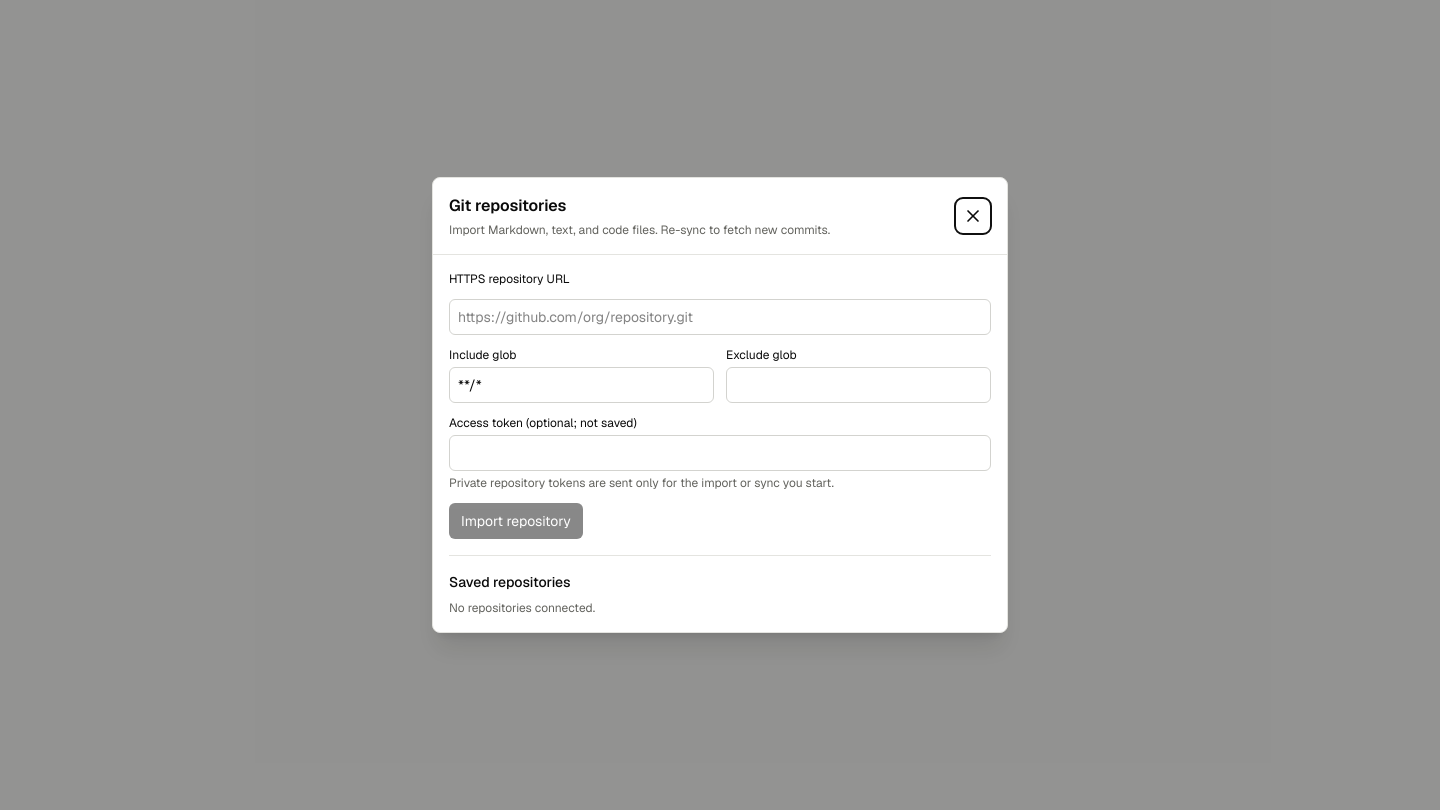
Test: GitRepositoryDialog › imports a repository and clears the one-time token
Check: the text "No repositories connected." is shown, box x1=449 y1=600 x2=595 y2=616
Type "https://github.com/org/repo.git" into the field labelled "HTTPS repository URL" at (720, 317), box x1=449 y1=299 x2=991 y2=335
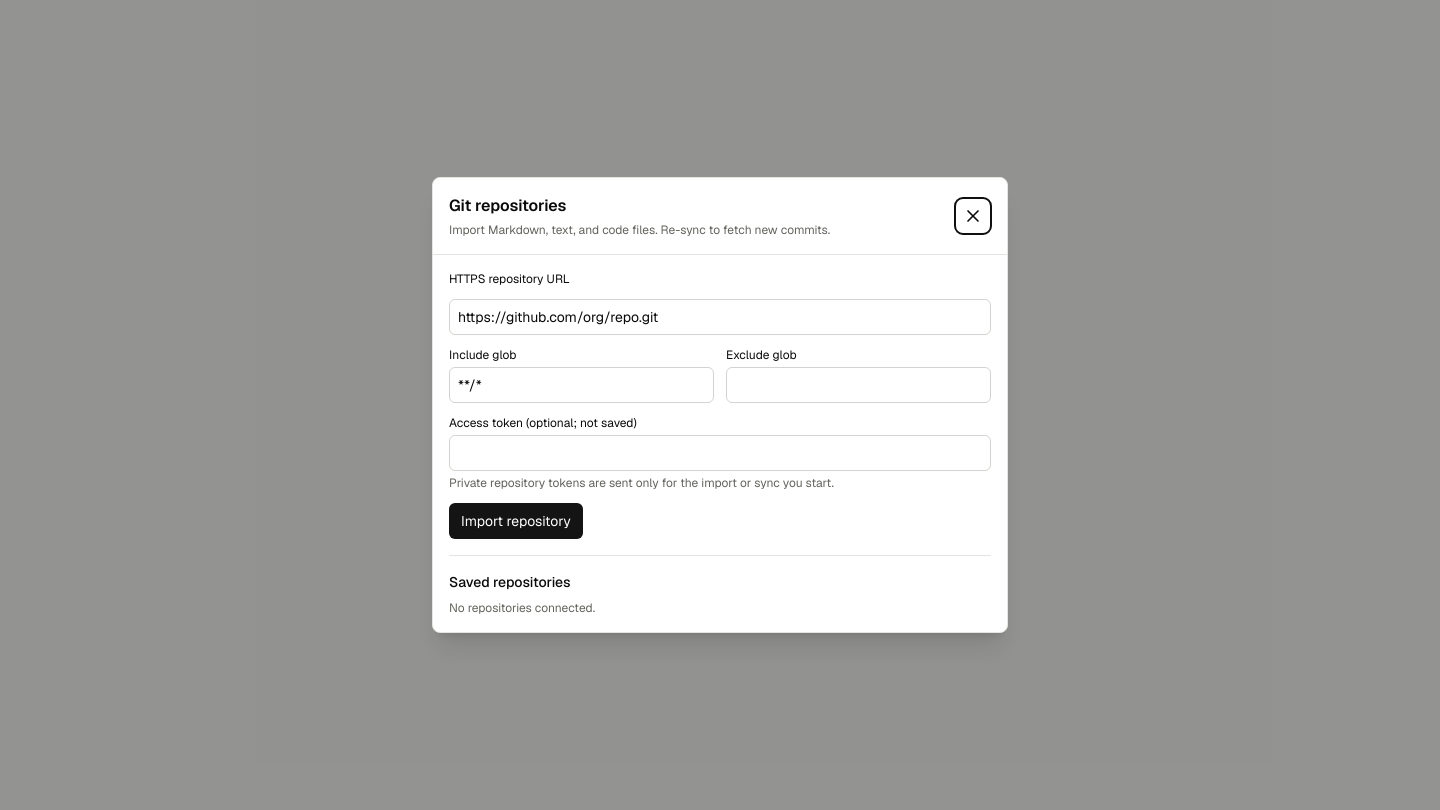
Type "one-time-token" into the password field labelled "Access token (optional; not saved)" at (720, 453), box x1=449 y1=435 x2=991 y2=471
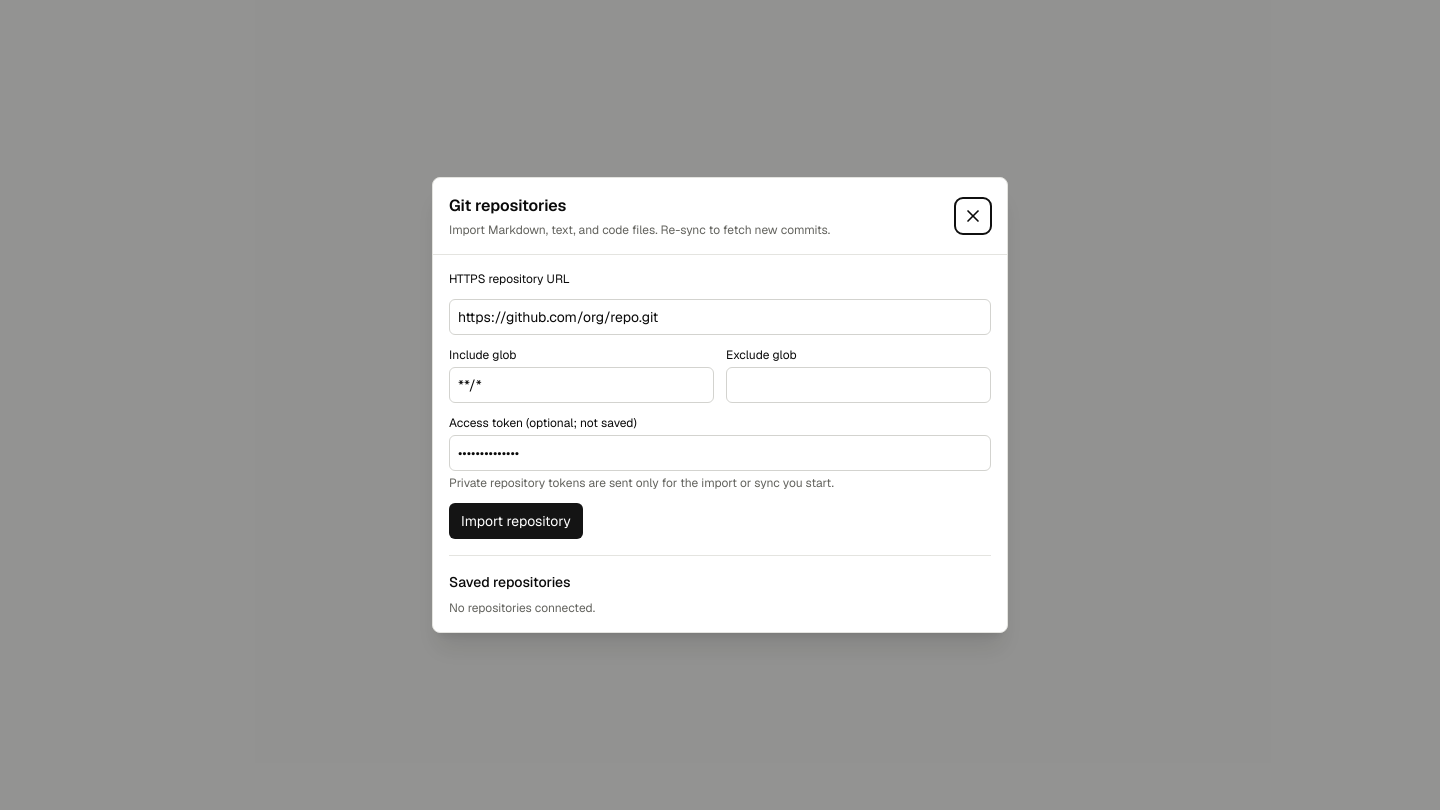
Click the button "Import repository" at (516, 521), box x1=449 y1=503 x2=583 y2=539
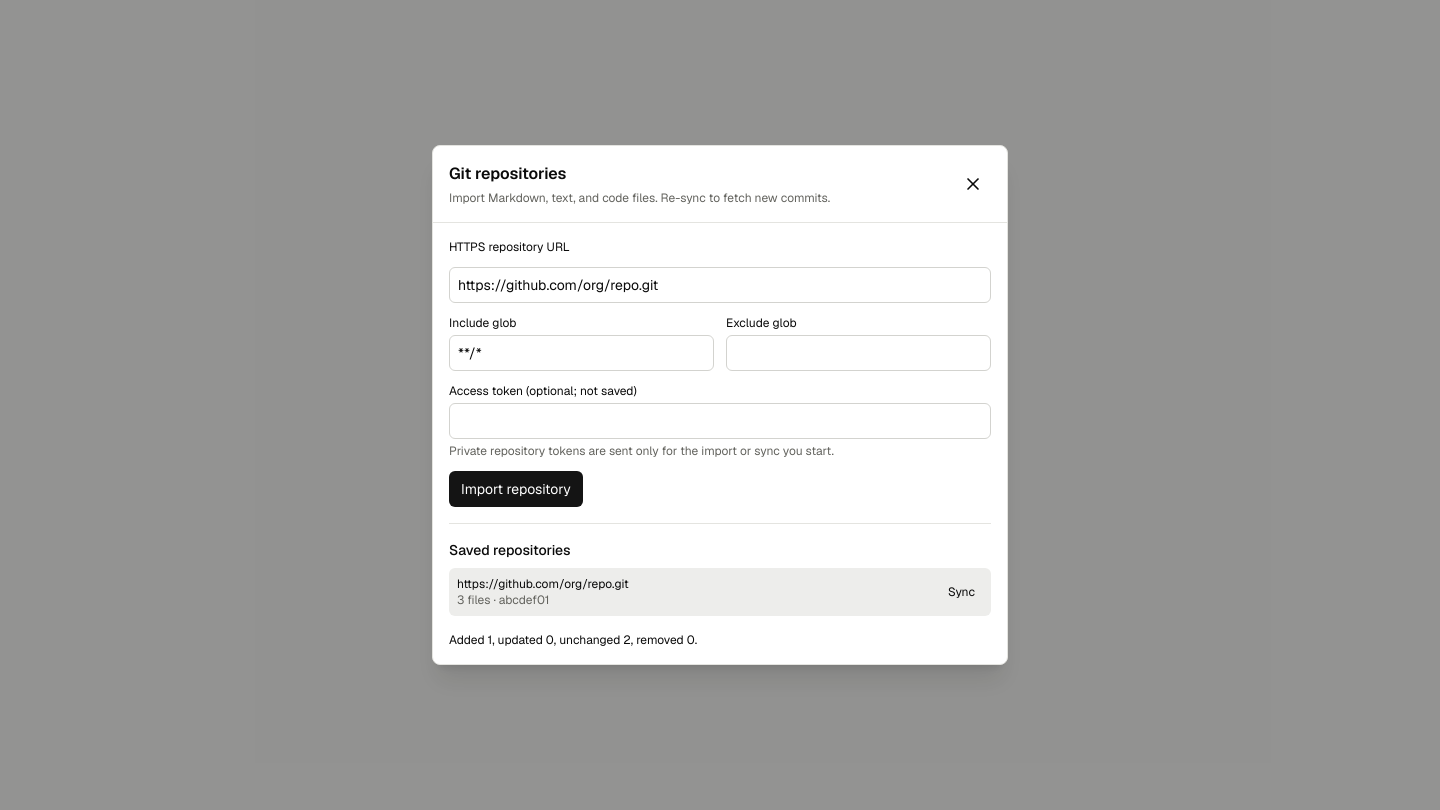
Check: the message reads "Added 1, updated 0, unchanged 2, removed 0.", box x1=449 y1=632 x2=697 y2=648
Check: the password field labelled "Access token (optional; not saved)" is empty, box x1=449 y1=403 x2=991 y2=439
